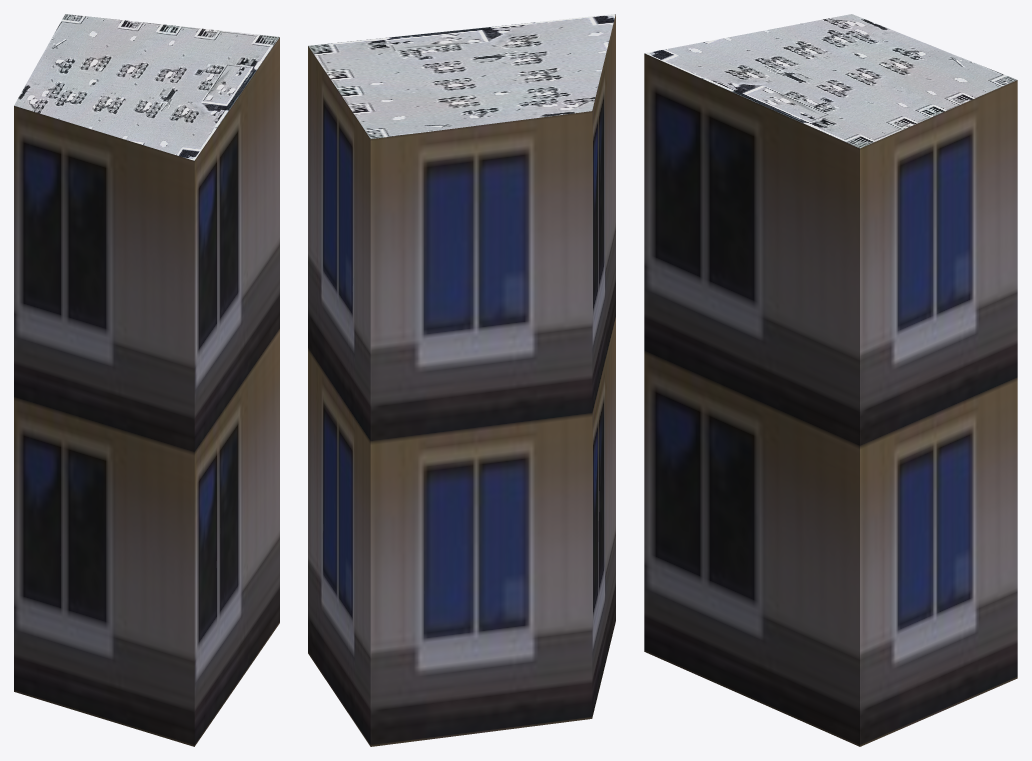
File: ResTex__2876.fbx
3 renders of one model, left to right at view 1: azimuth 30°, elevation 25°; view 2: azimuth 150°, elevation 25°; view 3: azimuth 270°, elevation 25°, orthographic. The views are drawn at different scales.
Parts seen in each view (by area): view 1: CityEngineMaterial_5_m, CityEngineMaterial_2_m; view 2: CityEngineMaterial_5_m, CityEngineMaterial_2_m; view 3: CityEngineMaterial_5_m, CityEngineMaterial_2_m.
Boxes of the visible parts, x1=… form: CityEngineMaterial_5_m: x1=14, y1=37, x2=279, y2=746; CityEngineMaterial_2_m: x1=14, y1=14, x2=279, y2=160; CityEngineMaterial_5_m: x1=308, y1=14, x2=615, y2=746; CityEngineMaterial_2_m: x1=308, y1=14, x2=615, y2=138; CityEngineMaterial_5_m: x1=644, y1=53, x2=1017, y2=746; CityEngineMaterial_2_m: x1=645, y1=14, x2=1016, y2=148.
Size of the model in its own units: 2.89 by 6 by 3.39.
Materials: 2 (2 with a texture image).
